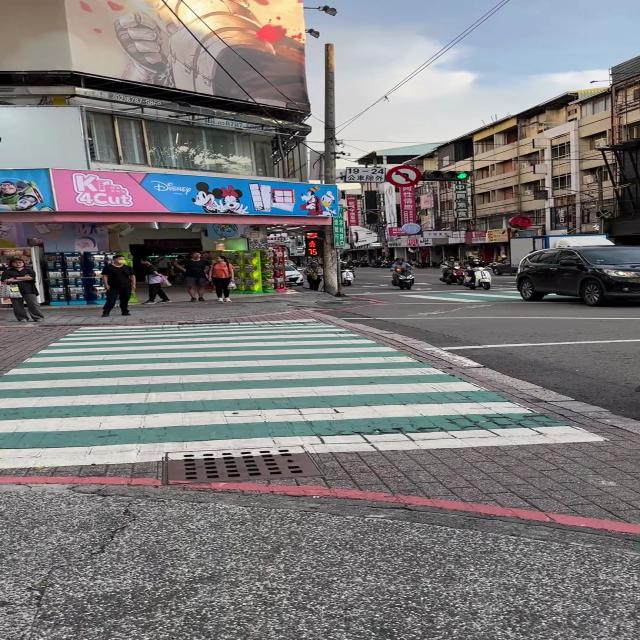car: (285, 265, 304, 285)
crosswalk: (0, 318, 615, 471), (396, 289, 523, 303)
motocycle: (514, 245, 640, 305), (465, 266, 492, 290), (395, 268, 415, 290), (340, 269, 355, 286)
pedestrian: (0, 259, 44, 322), (101, 255, 137, 317), (176, 251, 210, 301), (141, 259, 170, 304), (210, 255, 234, 302), (304, 261, 324, 290)
